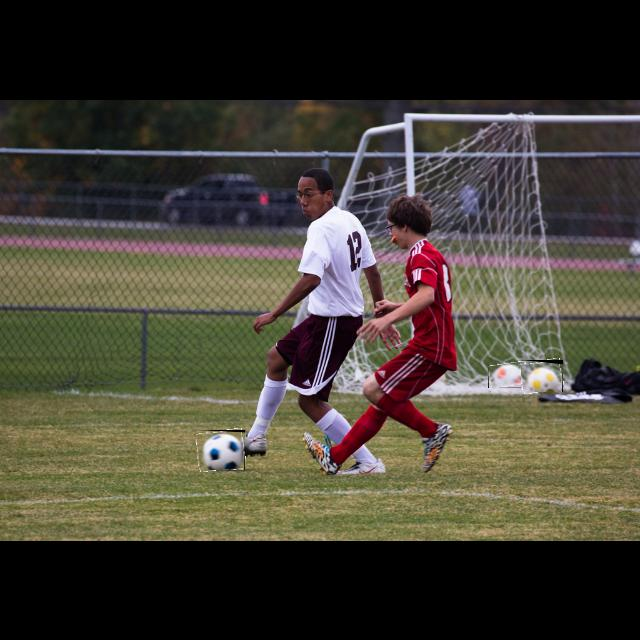Football: (197, 430, 245, 470), (521, 360, 563, 392), (488, 362, 528, 388)
